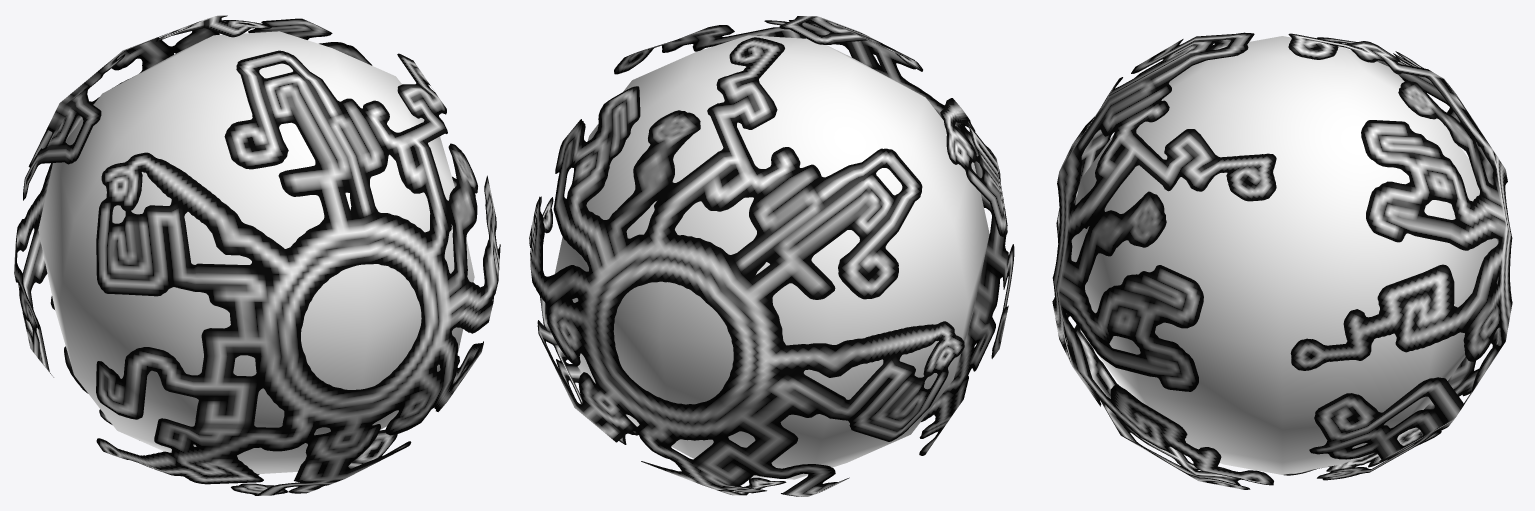
File: lv8_obj_hikaril.dae
3 renders of one model, left to right at view 1: azimuth 30°, elevation 25°; view 2: azimuth 150°, elevation 25°; view 3: azimuth 270°, elevation 25°, orthographic.
Visible parts, largest first — view 1: Shape 1, Shape 0; view 2: Shape 1, Shape 0; view 3: Shape 0, Shape 1.
Boxes of the visible parts, x1,y1,x2,y2 form: Shape 1: [14, 15, 500, 495]; Shape 0: [38, 31, 474, 474]; Shape 1: [529, 16, 1014, 496]; Shape 0: [555, 35, 989, 479]; Shape 0: [1071, 36, 1498, 474]; Shape 1: [1052, 32, 1512, 489].
Size of the model in its own units: 81.81 by 80.54 by 79.36.
Materials: 2 (2 with a texture image).
